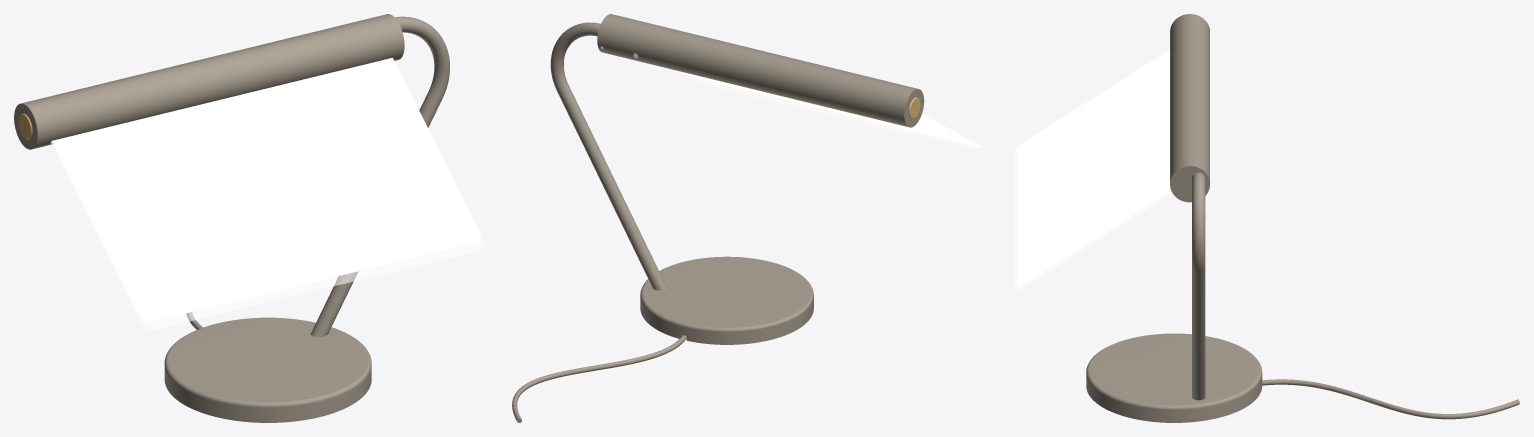
The model's file is ruta.glb.
3 renders of one model, left to right at view 1: azimuth 30°, elevation 25°; view 2: azimuth 150°, elevation 25°; view 3: azimuth 270°, elevation 25°, orthographic. The views are drawn at different scales.
Visible parts, largest first — view 1: Prismeark, Fot, Bjelke, Lysleiar, Royr; view 2: Bjelke, Fot, Royr, Lysleiar, Prismeark, Leidning; view 3: Prismeark, Fot, Bjelke, Royr, Leidning, Lysleiar.
Boxes of the visible parts, left/top/right/bottom form: Prismeark: left=52, top=57, right=480, bottom=321; Fot: left=164, top=317, right=371, bottom=422; Bjelke: left=14, top=14, right=404, bottom=149; Lysleiar: left=51, top=141, right=483, bottom=330; Royr: left=310, top=16, right=449, bottom=336; Bjelke: left=597, top=14, right=924, bottom=127; Fot: left=640, top=256, right=813, bottom=344; Royr: left=550, top=22, right=667, bottom=290; Lysleiar: left=679, top=71, right=985, bottom=152; Prismeark: left=691, top=74, right=982, bottom=147; Leidning: left=512, top=335, right=686, bottom=422; Prismeark: left=1017, top=50, right=1170, bottom=285; Fot: left=1086, top=333, right=1262, bottom=422; Bjelke: left=1170, top=14, right=1209, bottom=202; Royr: left=1192, top=172, right=1205, bottom=400; Leidning: left=1262, top=379, right=1519, bottom=419; Lysleiar: left=1014, top=145, right=1171, bottom=291.
Bounding box in the file's own units: 0.378 × 0.2725 × 0.4538.
